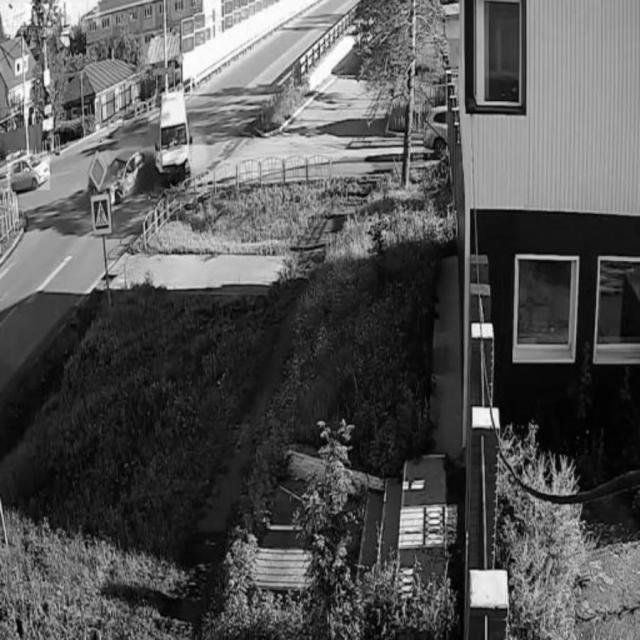accident: (110, 94, 193, 198)
vehicle: (8, 150, 50, 190)
